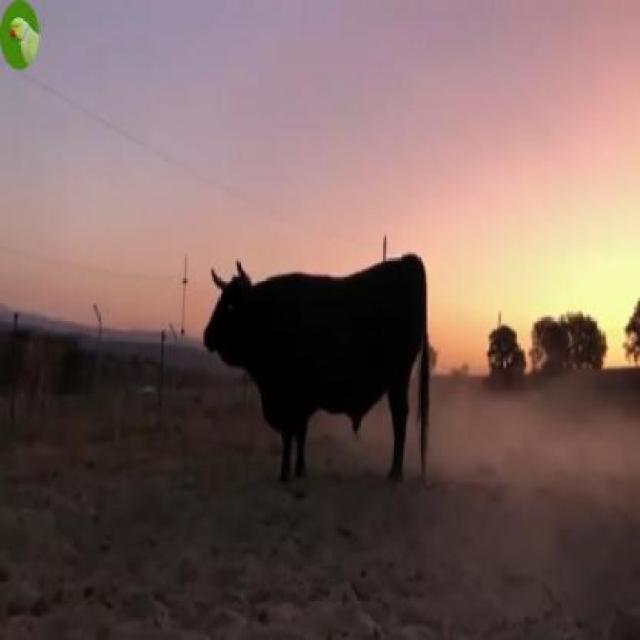Cow: (202, 249, 428, 477)
